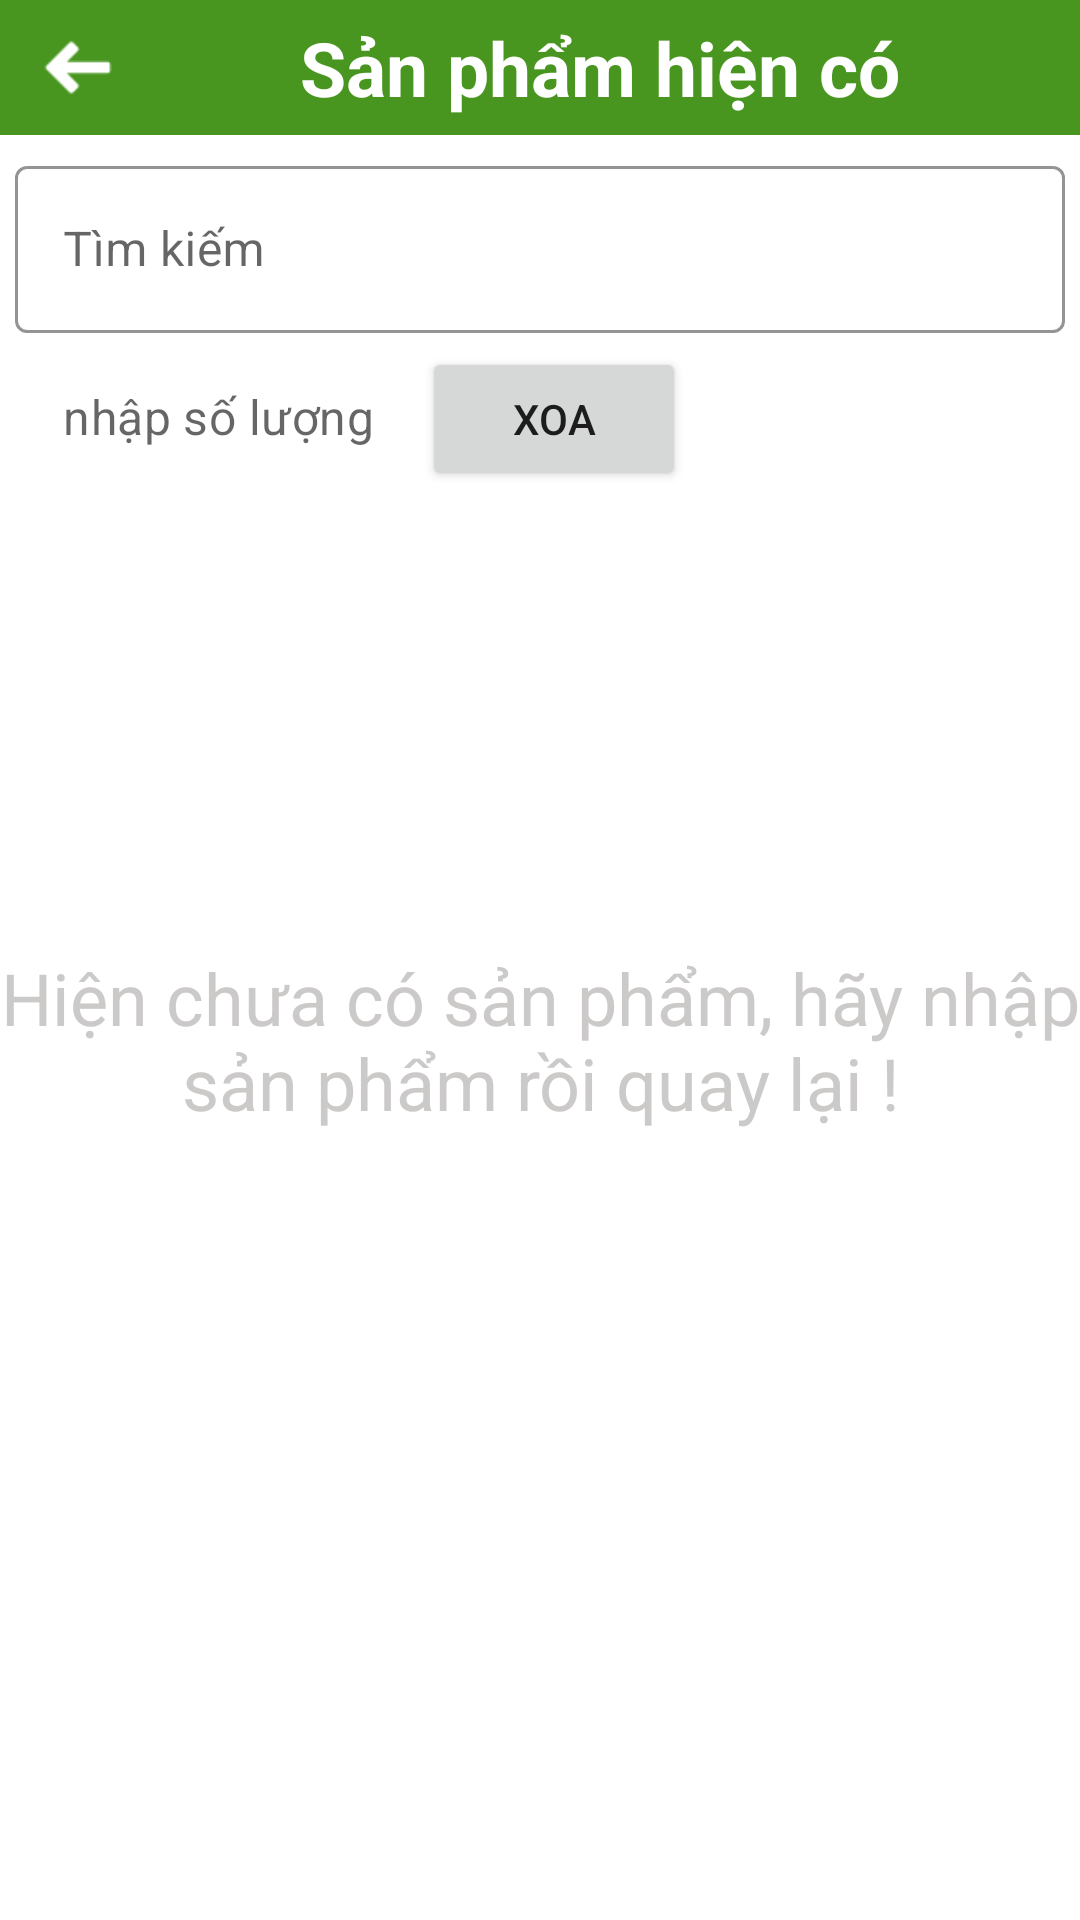

Screen size 1080 × 1920. Icon name, then its center in pixels as (x=x, y=y):
back: (x=78, y=67)
